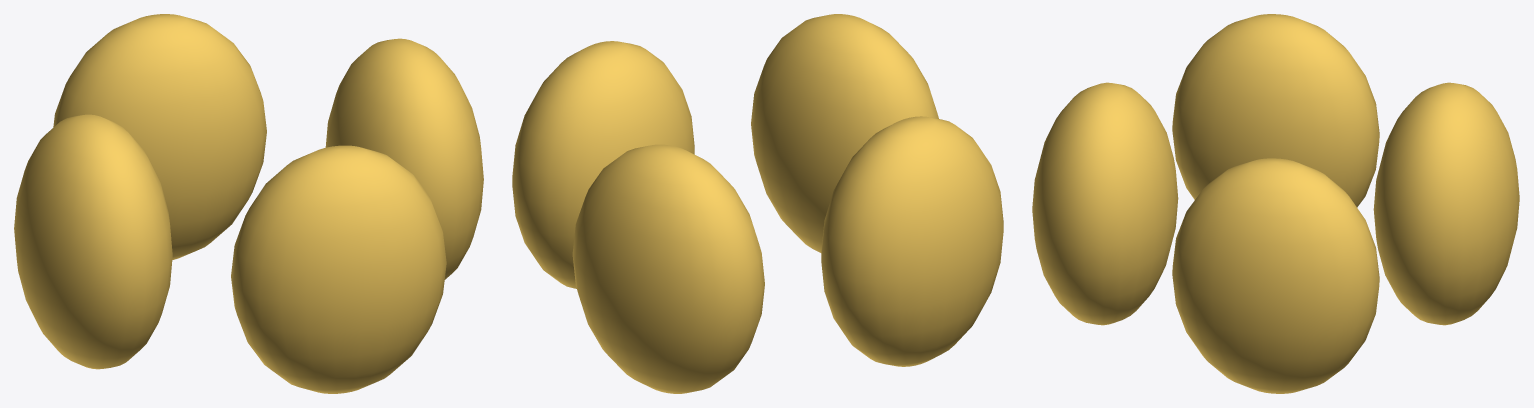
The model's file is crop_1_stage_0.fbx.
3 views of the same model, side by side, from view 1: azimuth 30°, elevation 25°; view 2: azimuth 150°, elevation 25°; view 3: azimuth 270°, elevation 25° (orthographic). The views are drawn at different scales.
Parts seen in each view (by area): view 1: crop_1_stage_0; view 2: crop_1_stage_0; view 3: crop_1_stage_0.
Part boxes in pixels (x1,y1,x2,y2): crop_1_stage_0: (14,14,483,393); crop_1_stage_0: (512,14,1003,393); crop_1_stage_0: (1032,14,1519,393).
Bounding box in the file's own units: 0.068 × 0.035 × 0.068.
Materials: 1 (1 with a texture image).
